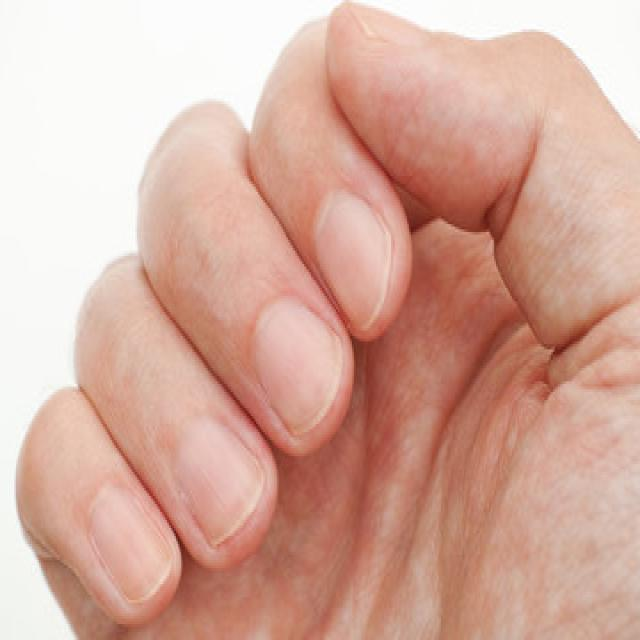Fingernail: (253, 299, 340, 435), (174, 419, 263, 545), (314, 195, 389, 331), (90, 487, 173, 602), (351, 5, 422, 44)
